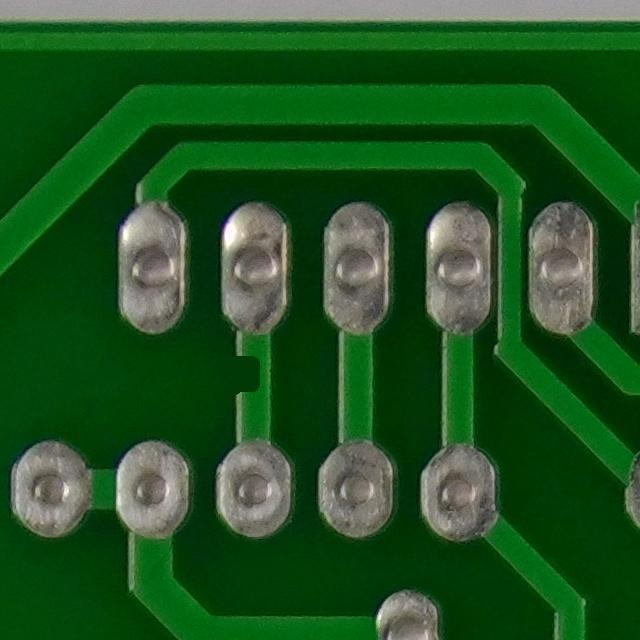mouse_bite: (218, 337, 279, 406)
